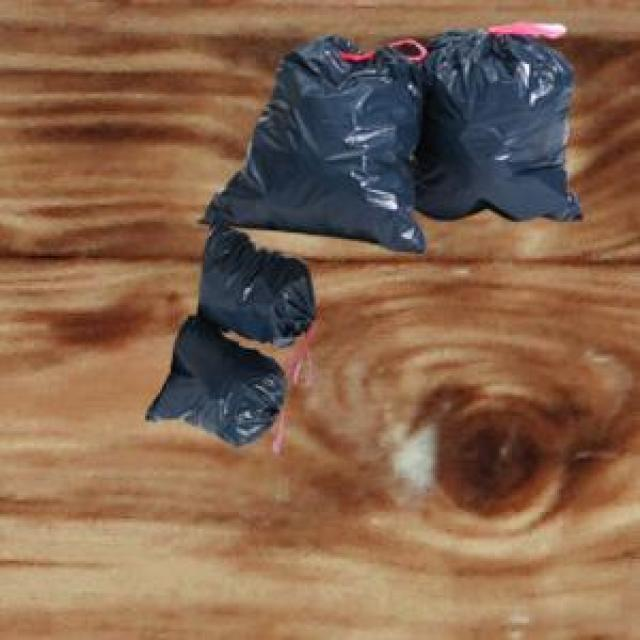Vinyl: (146, 30, 580, 443)
